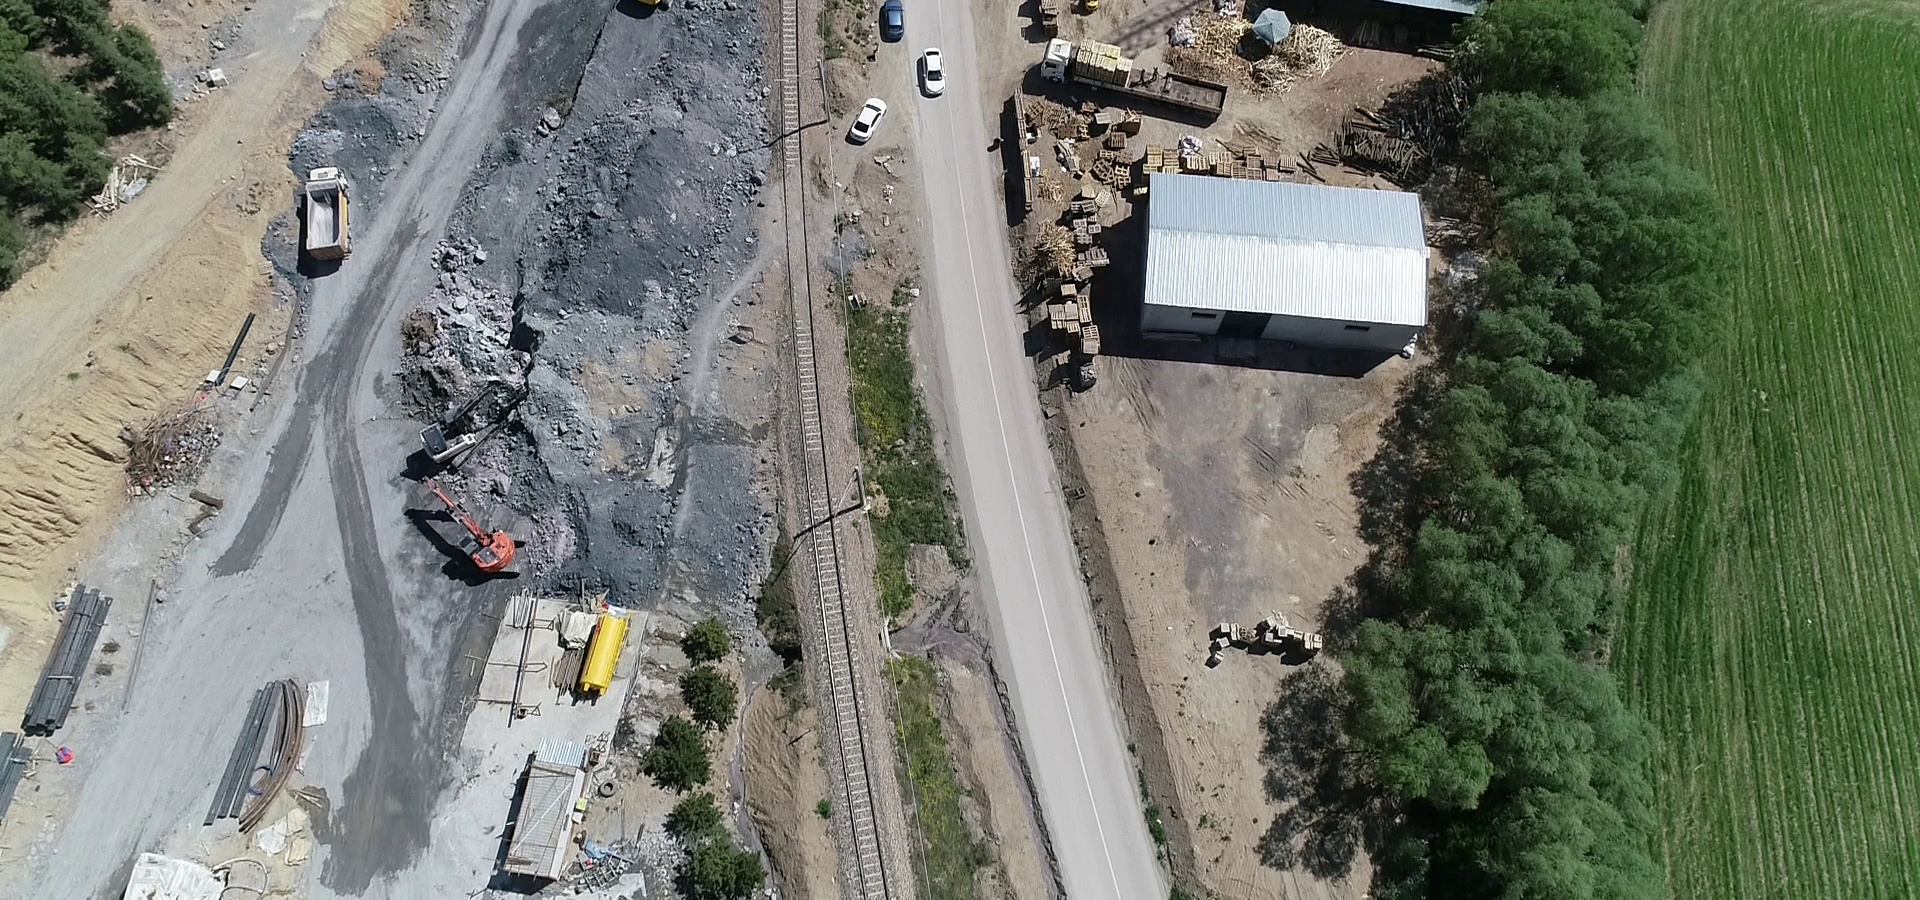araba: (917, 44, 975, 99), (846, 91, 894, 146), (872, 1, 913, 53)
ismakinesi: (411, 353, 527, 478), (419, 470, 534, 571)
kamyon: (1037, 40, 1239, 113), (294, 153, 362, 274)
